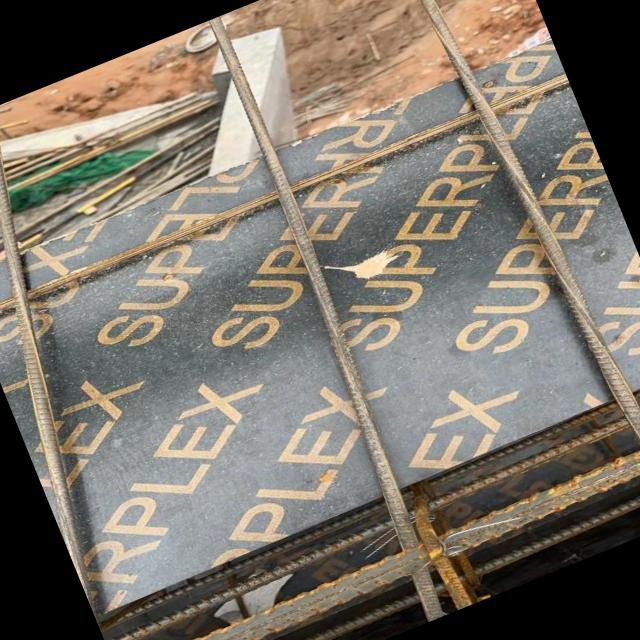ribbed bar: (184, 12, 466, 622), (92, 370, 640, 632), (98, 386, 640, 640), (390, 0, 640, 539), (112, 419, 640, 640), (128, 460, 640, 640), (0, 107, 181, 612), (403, 490, 474, 612)
